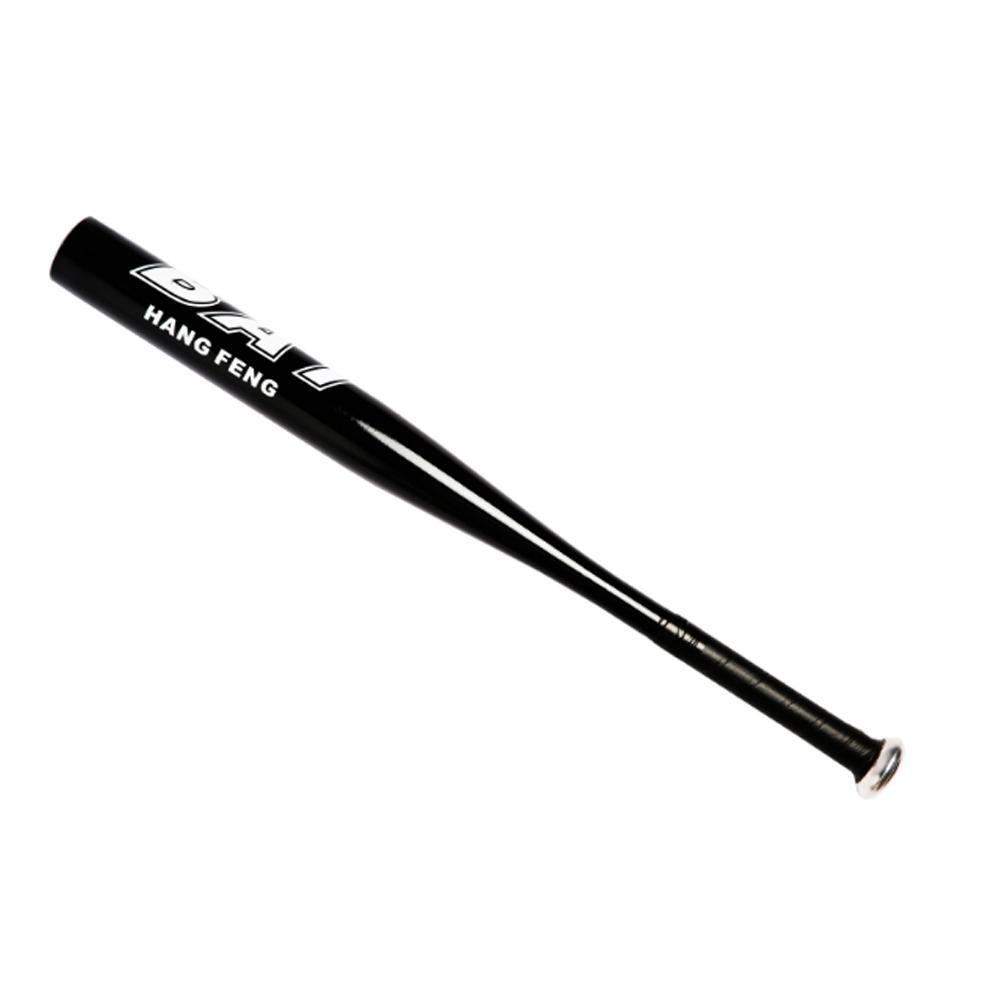Baseball-Bat: (57, 215, 922, 823)
